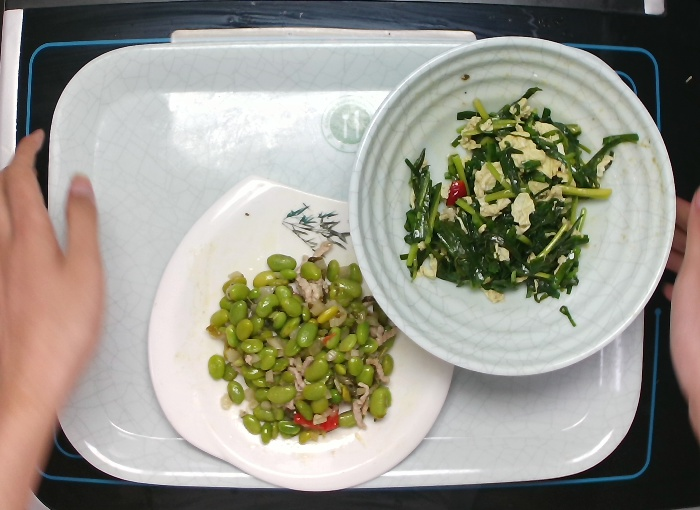JYsf-Da_Tang_Wan: (346, 33, 681, 379)
JYsf-Mian_Pan: (144, 173, 458, 494)
